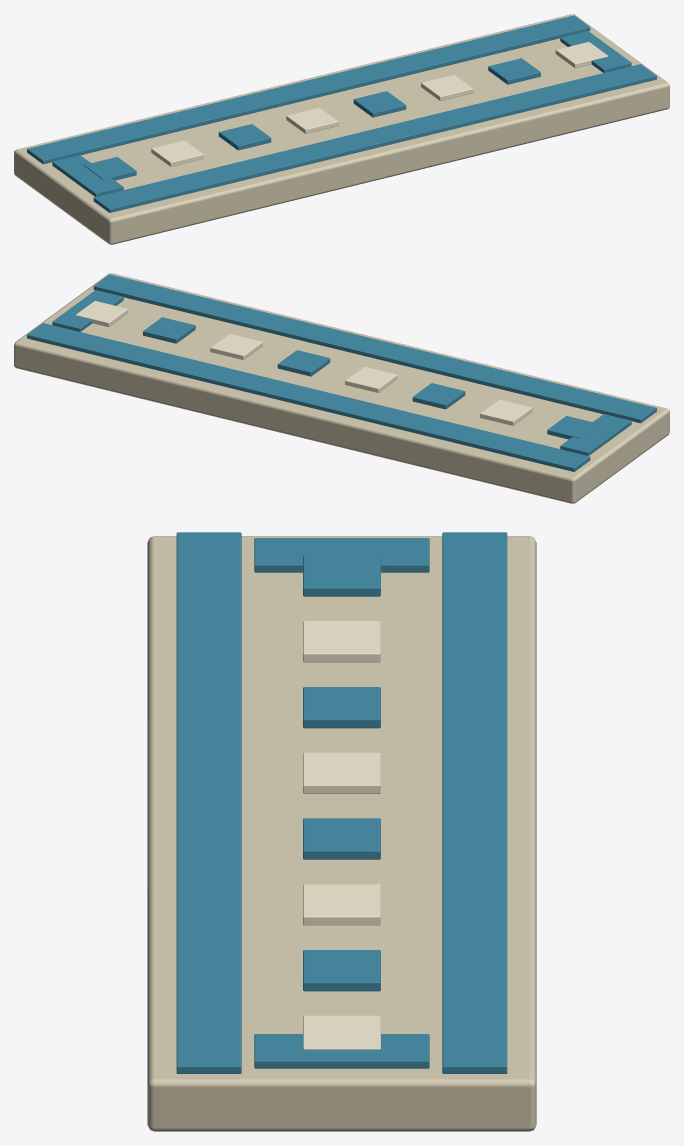
File: fantasy-bathhouse-and-thermal-sanctuary-fantasy-bathho-1aa88eae__29435.glb
The picture shows the model from 3 angles, top to bottom: view 1: azimuth 30°, elevation 25°; view 2: azimuth 150°, elevation 25°; view 3: azimuth 270°, elevation 25°; orthographic projection. The views are drawn at different scales.
Visible parts, largest first — view 1: fantasy-bathhouse-and-thermal-sanctuary-mosaic-threshold; view 2: fantasy-bathhouse-and-thermal-sanctuary-mosaic-threshold; view 3: fantasy-bathhouse-and-thermal-sanctuary-mosaic-threshold.
Boxes of the visible parts, box(x1,y1,x2,y2) form: fantasy-bathhouse-and-thermal-sanctuary-mosaic-threshold: box(14, 14, 669, 244); fantasy-bathhouse-and-thermal-sanctuary-mosaic-threshold: box(14, 273, 669, 503); fantasy-bathhouse-and-thermal-sanctuary-mosaic-threshold: box(147, 532, 536, 1131).
Bounding box in the file's own units: 2 × 0.107 × 0.5999.
